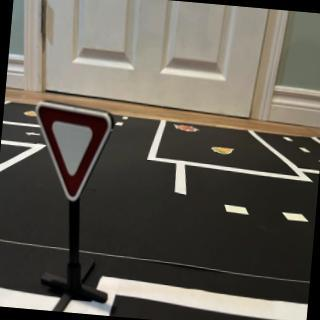road_oneway: (25, 131, 43, 141)
sign_yield: (29, 102, 117, 206)
